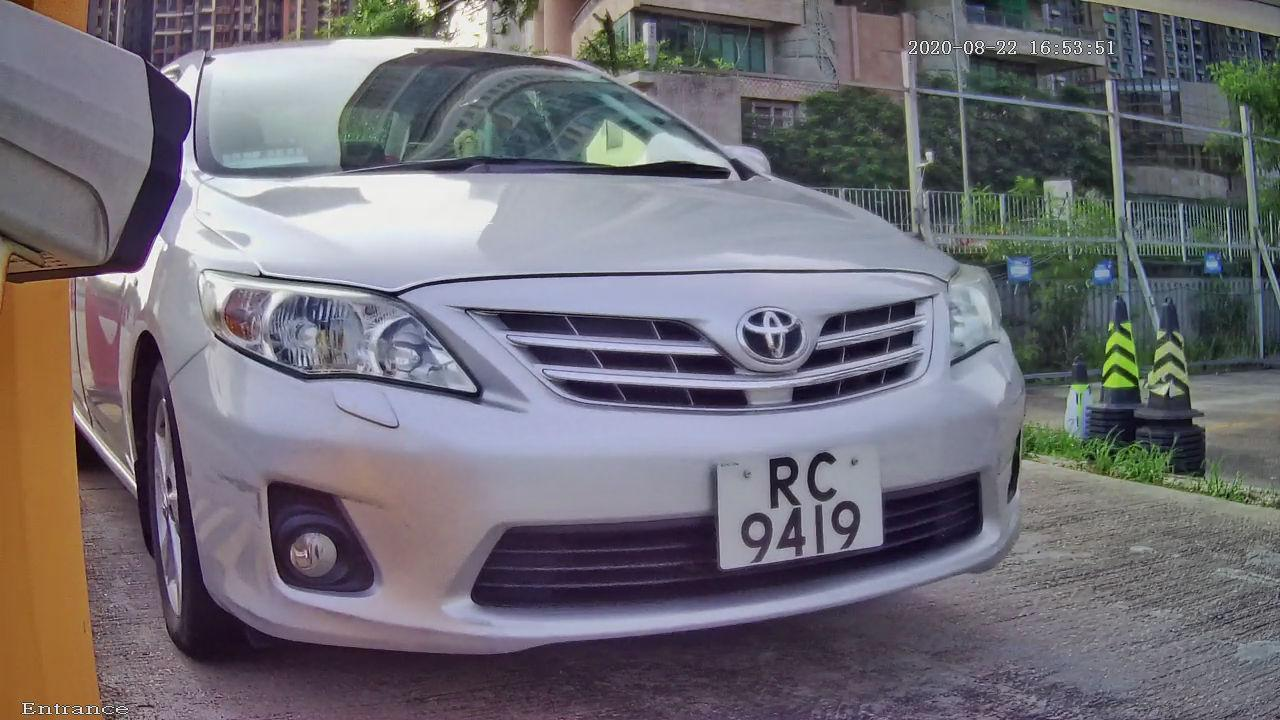Car: (18, 10, 1138, 695)
License Plate: (698, 431, 903, 576)
